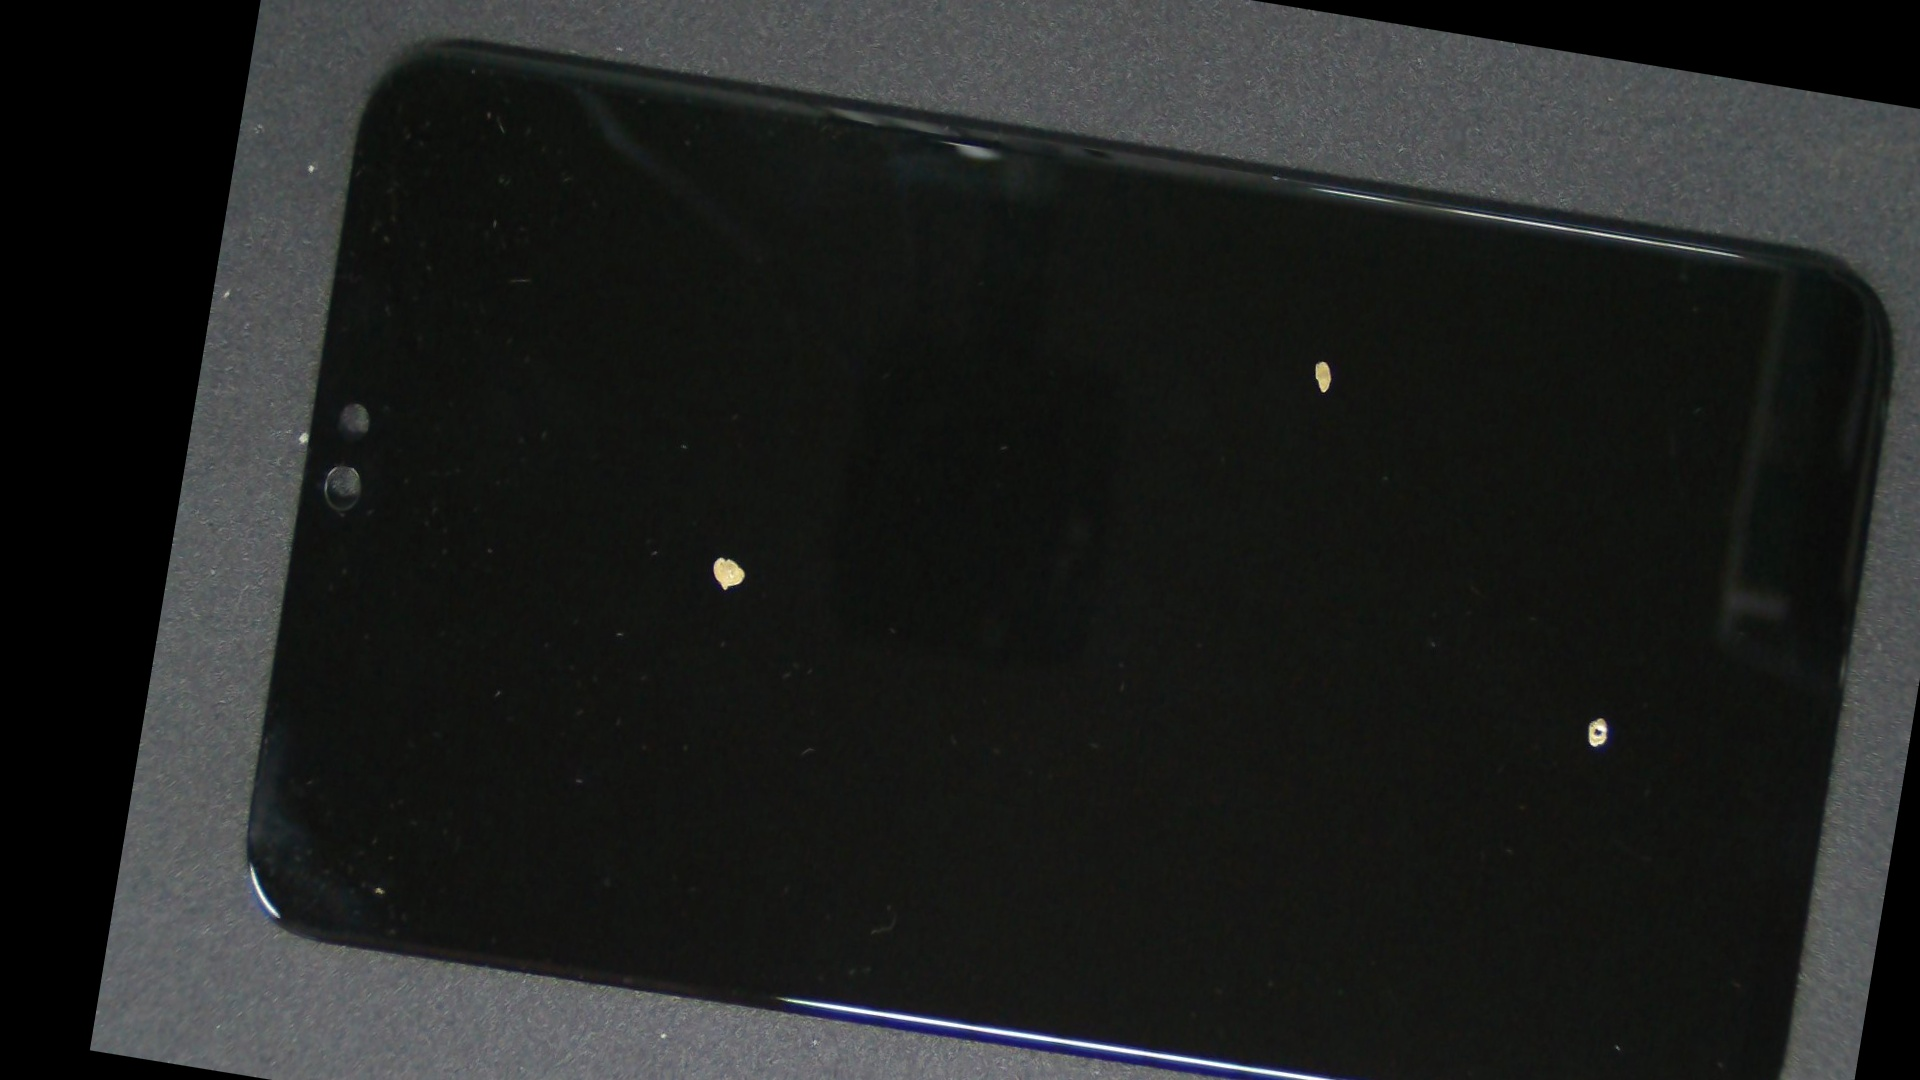oil: (839, 280, 1920, 1080), (750, 102, 1898, 618), (404, 196, 1038, 914)
